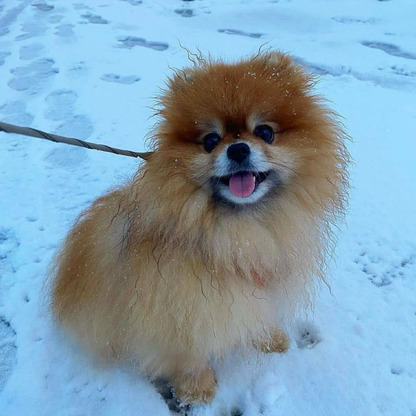Pomeranian: (47, 43, 356, 406)
